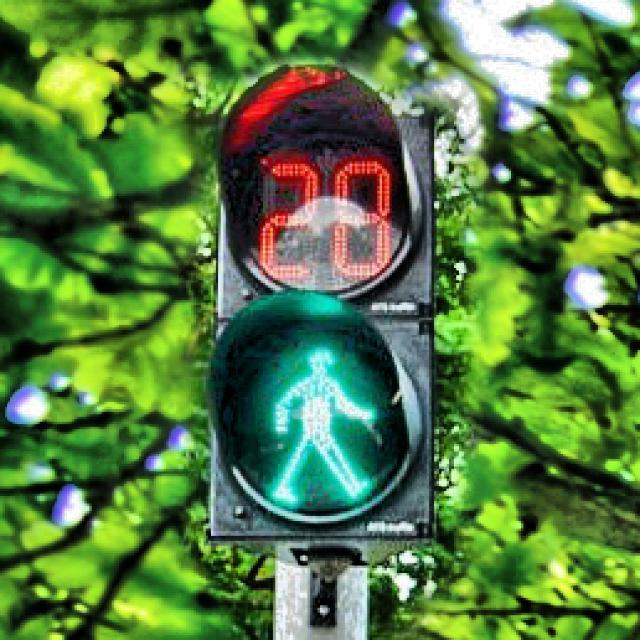green_light: (265, 342, 379, 509)
